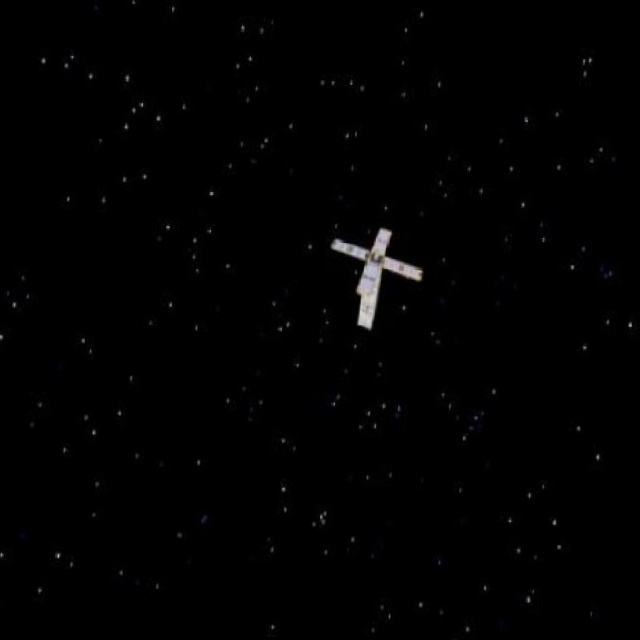medium_debris: (304, 207, 429, 344)
